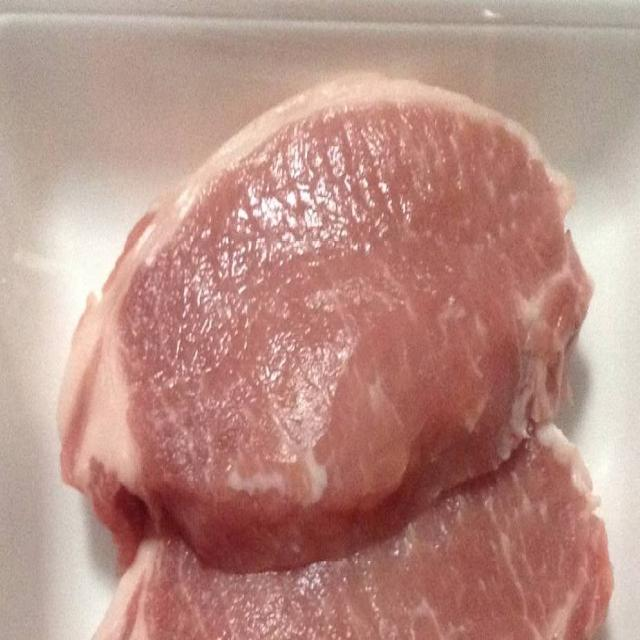Pork: (47, 74, 595, 565)
